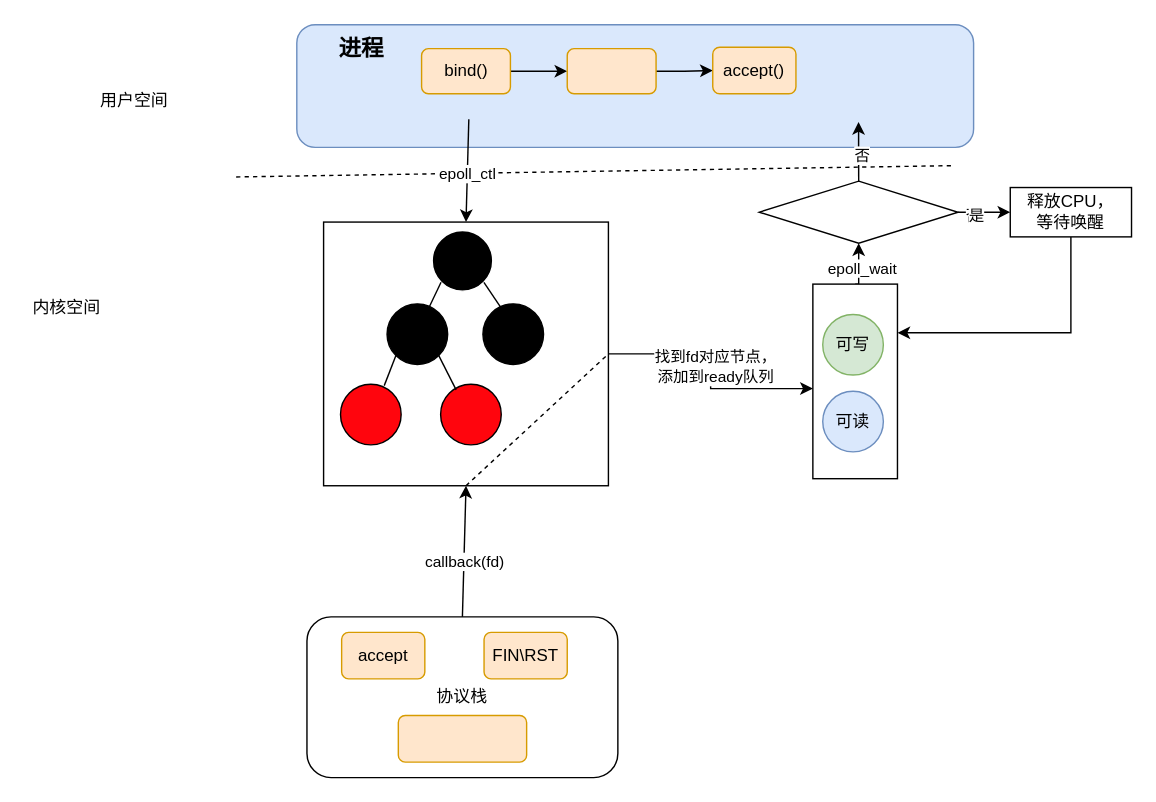
This 1156x802 diagram has some shape labels left out. Each missing label, with the centre of its shape:
listen(): [611,70]
就绪队列是否为空: [858,211]
接收、发送: [462,738]
